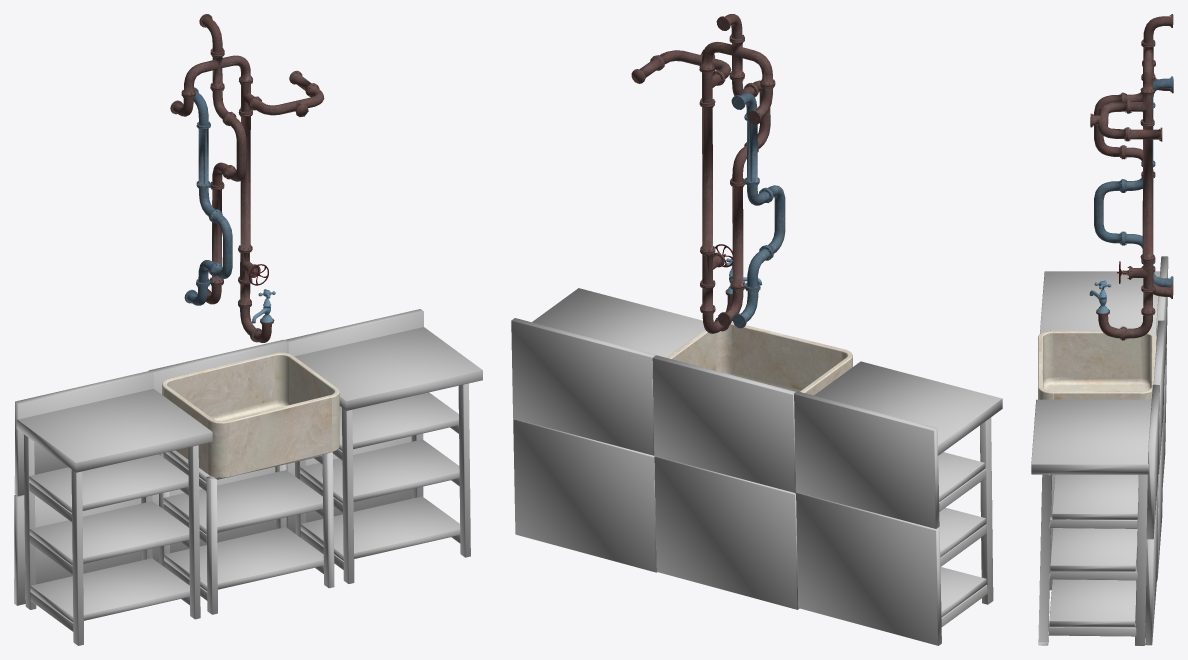
File: cabinet_and_sink.fbx
3 renders of one model, left to right at view 1: azimuth 30°, elevation 25°; view 2: azimuth 150°, elevation 25°; view 3: azimuth 270°, elevation 25°, orthographic. The views are drawn at different scales.
Visible parts, largest first — view 1: counter1.004, counter1.001, counter1.002, Vintage Sink & taps, pipe9c9, pipe3c3, pipe6c6, pipe7c7, pipe7c7.001, pipe3.001, pipe3.002; view 2: counter1.004, counter1.001, counter1.002, Vintage Sink & taps, pipe3c3, pipe9c9, pipe3.001, pipe7c7.001, pipe6c6, pipe8.с8, pipe3.002; view 3: counter1.001, Vintage Sink & taps, counter1.004, counter1.002, pipe3c3, pipe7c7.001, pipe6c6, pipe7c7, pipe8.с8, pipe9c9, pipe5c5, pipe4.001 (+10 smaller).
Boxes of the visible parts, x1=… form: counter1.004: x1=14, y1=371, x2=212, y2=645; counter1.001: x1=285, y1=309, x2=482, y2=583; counter1.002: x1=148, y1=339, x2=334, y2=614; Vintage Sink & taps: x1=162, y1=352, x2=339, y2=477; pipe9c9: x1=181, y1=53, x2=252, y2=96; pipe3c3: x1=238, y1=112, x2=252, y2=251; pipe6c6: x1=249, y1=83, x2=324, y2=116; pipe7c7: x1=223, y1=112, x2=246, y2=181; pipe7c7.001: x1=209, y1=209, x2=232, y2=278; pipe3.001: x1=209, y1=186, x2=224, y2=284; pipe3.002: x1=196, y1=125, x2=210, y2=186; counter1.004: x1=794, y1=361, x2=1002, y2=645; counter1.001: x1=511, y1=288, x2=704, y2=572; counter1.002: x1=652, y1=355, x2=799, y2=609; Vintage Sink & taps: x1=667, y1=322, x2=852, y2=395; pipe3c3: x1=699, y1=103, x2=715, y2=252; pipe9c9: x1=699, y1=39, x2=775, y2=86; pipe3.001: x1=730, y1=182, x2=745, y2=288; pipe7c7.001: x1=762, y1=185, x2=785, y2=257; pipe6c6: x1=653, y1=49, x2=731, y2=84; pipe8.с8: x1=700, y1=244, x2=732, y2=287; pipe3.002: x1=744, y1=118, x2=759, y2=183; counter1.001: x1=1031, y1=384, x2=1159, y2=645; Vintage Sink & taps: x1=1038, y1=330, x2=1156, y2=399; counter1.004: x1=1040, y1=256, x2=1168, y2=486; counter1.002: x1=1136, y1=320, x2=1165, y2=580; pipe3c3: x1=1140, y1=122, x2=1154, y2=260; pipe7c7.001: x1=1094, y1=179, x2=1123, y2=245; pipe6c6: x1=1090, y1=99, x2=1128, y2=141; pipe7c7: x1=1094, y1=92, x2=1123, y2=159; pipe8.с8: x1=1117, y1=256, x2=1155, y2=291; pipe9c9: x1=1140, y1=44, x2=1155, y2=93; pipe5c5: x1=1128, y1=92, x2=1154, y2=125; pipe4.001: x1=1141, y1=14, x2=1173, y2=46.
Size of the model in its own units: 207 by 267 by 64.37.
